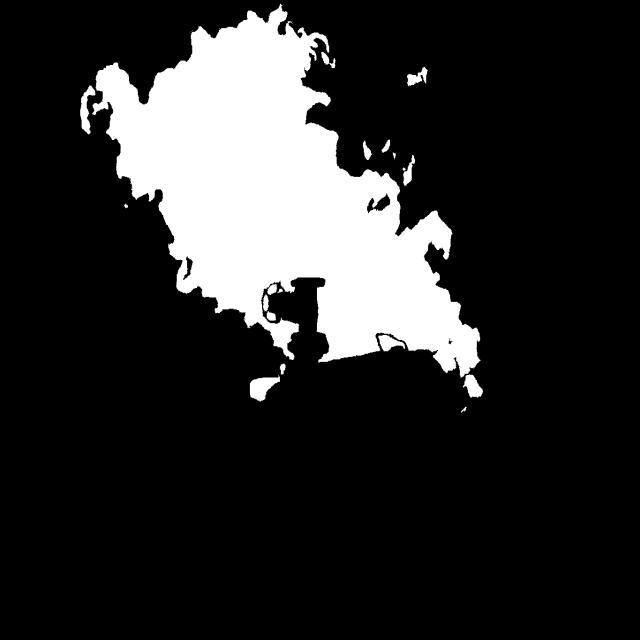fire: (68, 55, 526, 411)
